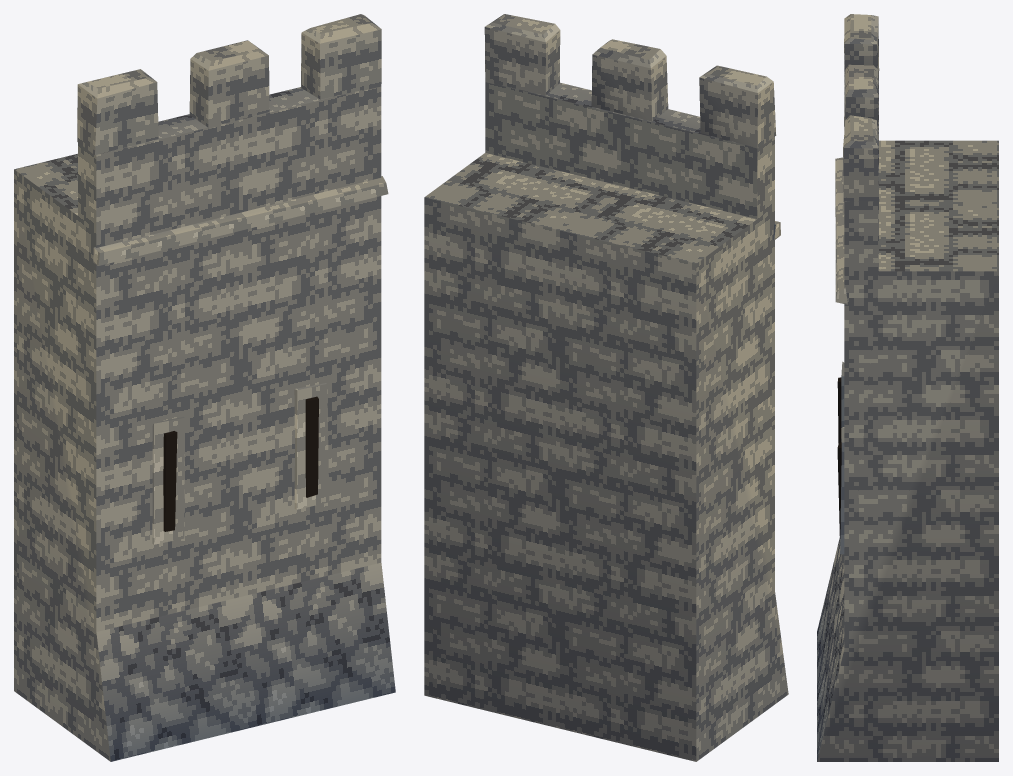
Rendered from cst.curtain__slits.glb.
The picture shows the model from 3 angles, left to right: view 1: azimuth 30°, elevation 25°; view 2: azimuth 150°, elevation 25°; view 3: azimuth 270°, elevation 25°; orthographic projection. The views are drawn at different scales.
Parts seen in each view (by area): view 1: kit_wall, kit_top, kit_detail; view 2: kit_wall, kit_top; view 3: kit_wall, kit_top, kit_detail.
Part boxes in pixels (x1,y1,x2,y2): kit_wall: (14,86,395,761); kit_top: (77,14,381,155); kit_detail: (93,176,388,544); kit_wall: (424,82,788,761); kit_top: (484,14,776,148); kit_wall: (817,75,998,761); kit_top: (843,14,879,201); kit_detail: (835,157,847,554).
Size of the model in its own units: 4.07 by 8.85 by 2.35.
5 materials, 5 textured.
